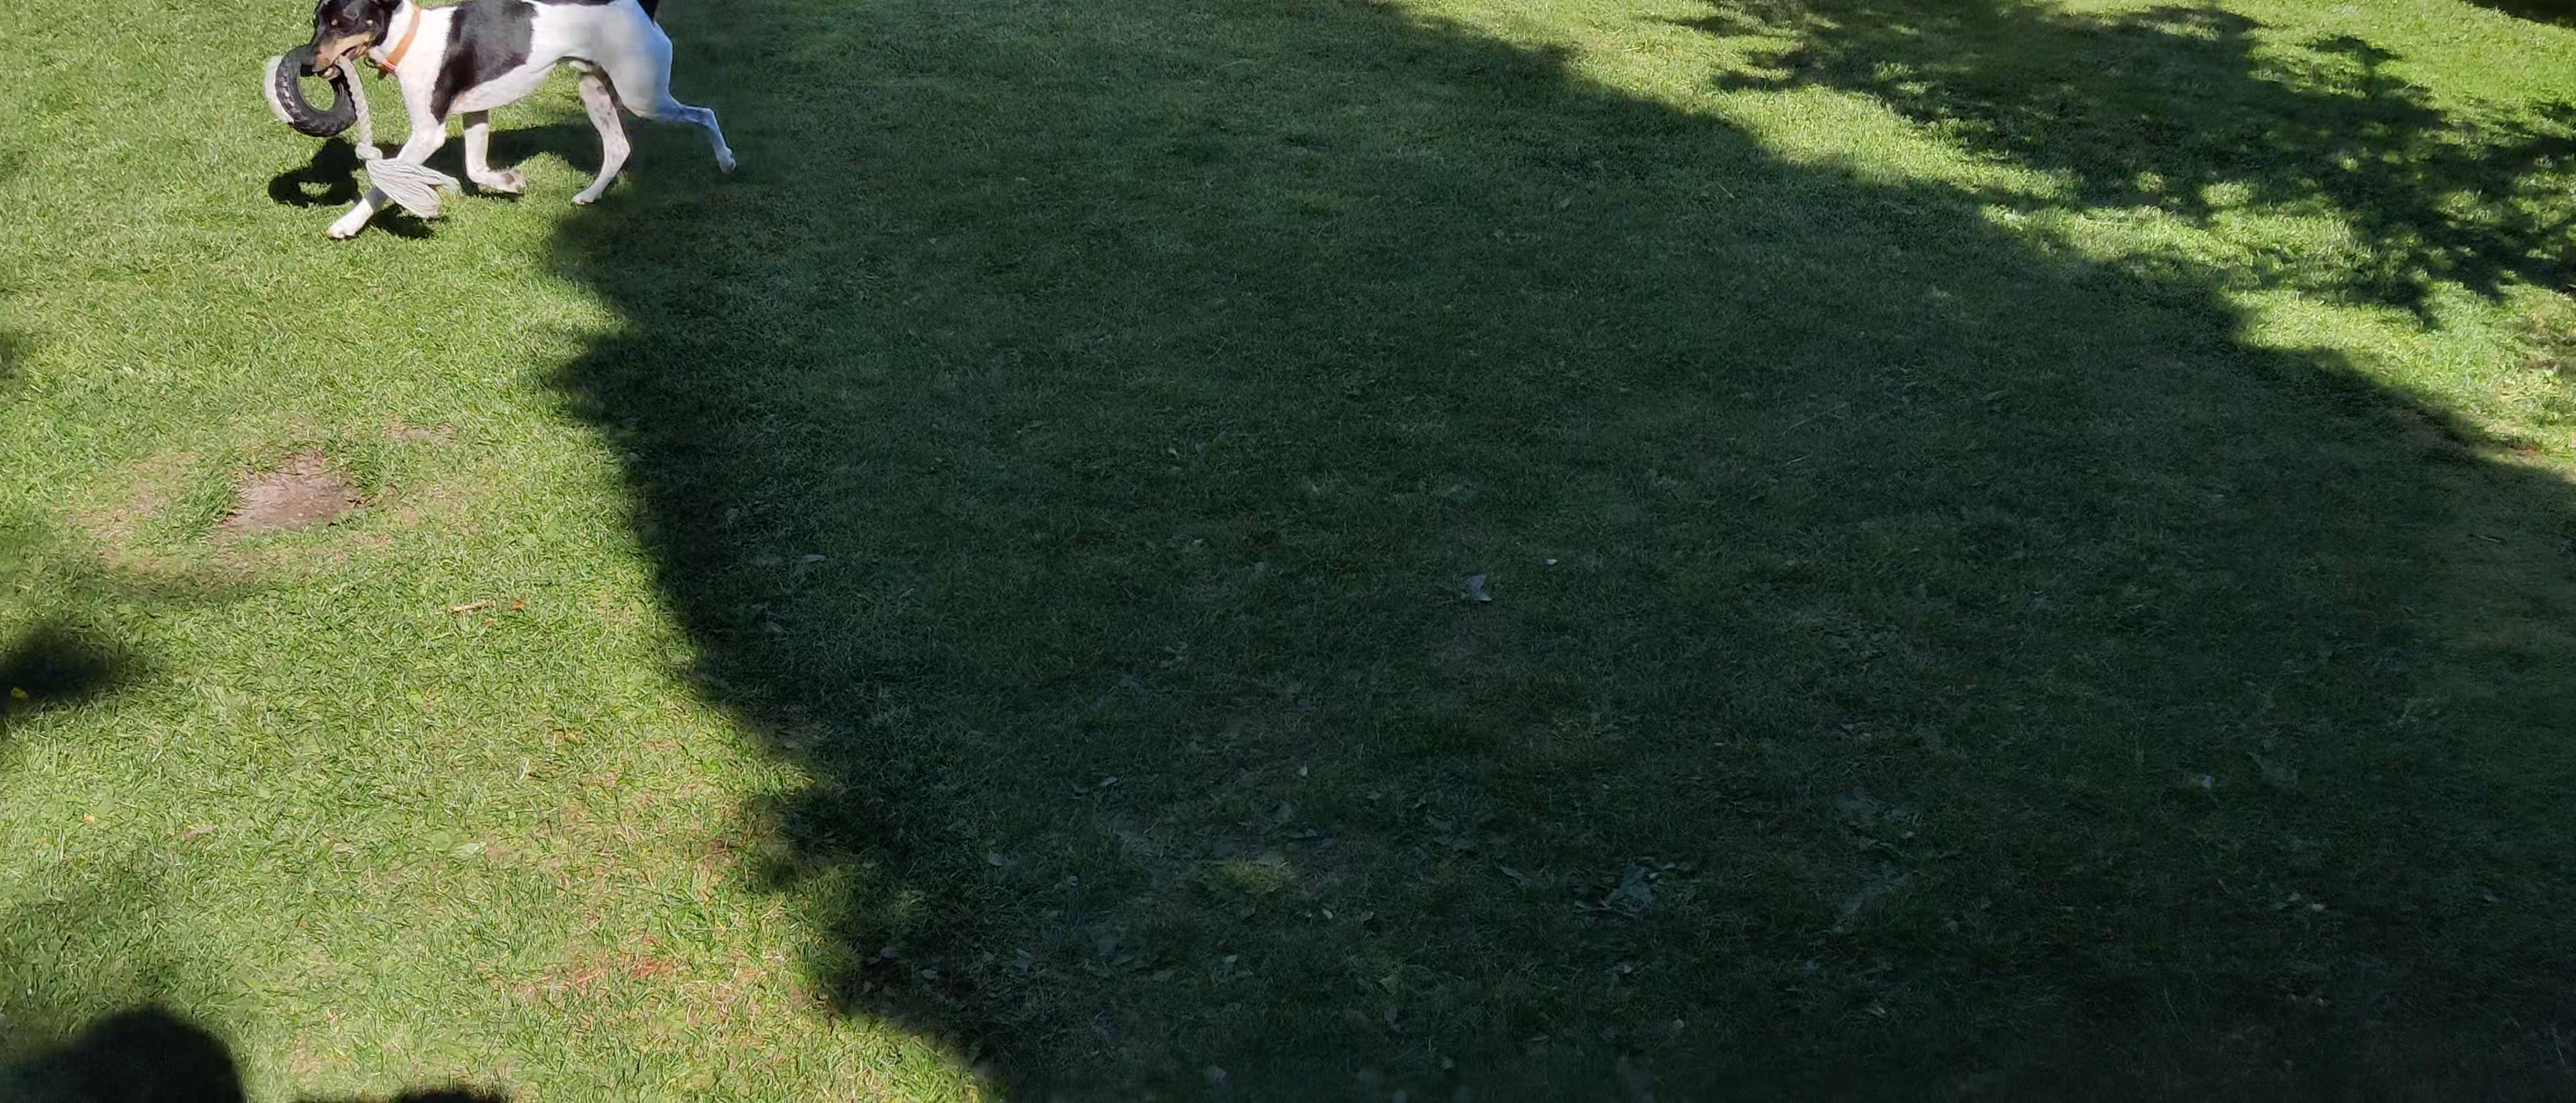Dog: (294, 0, 743, 240)
